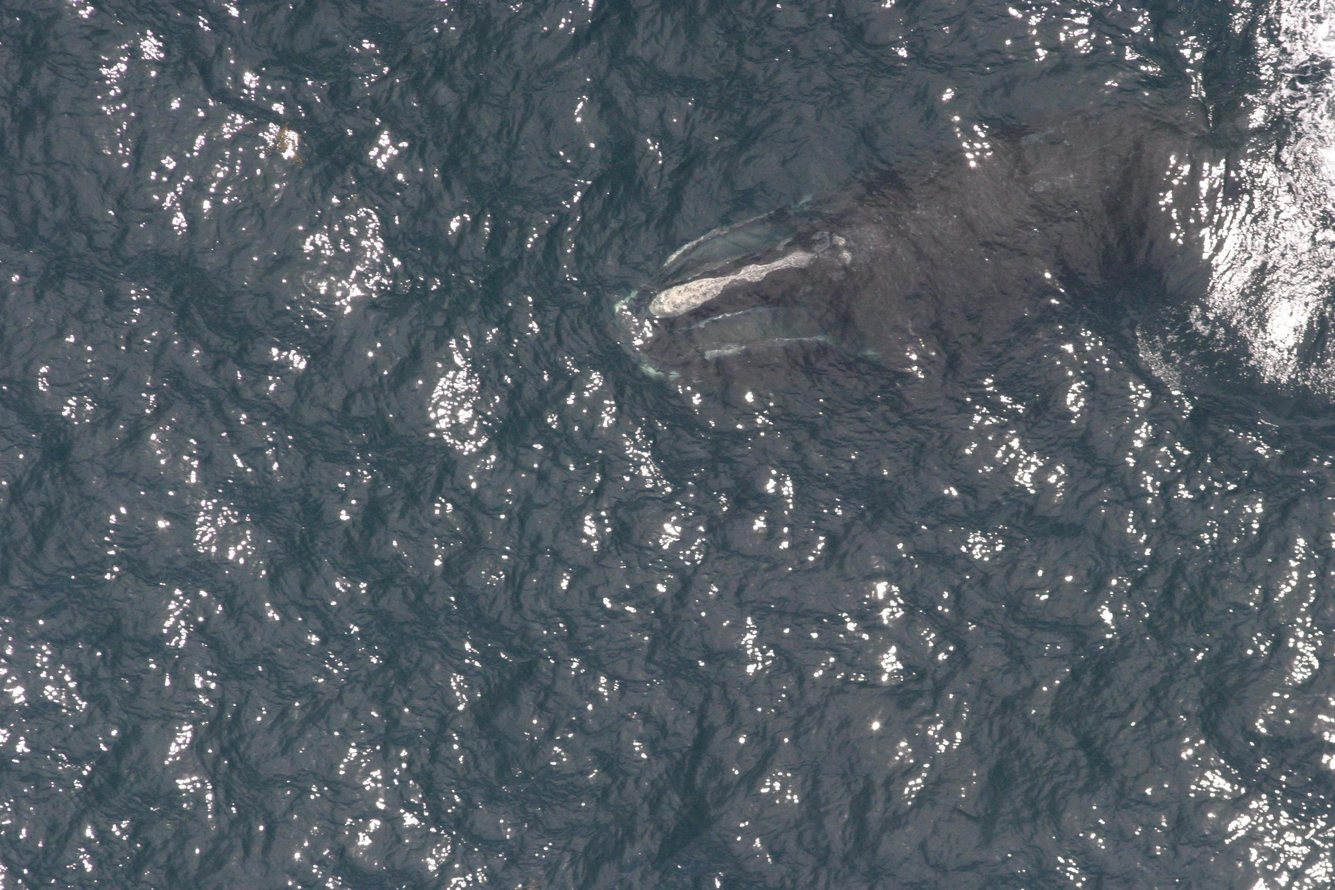whale: (607, 86, 1236, 395)
